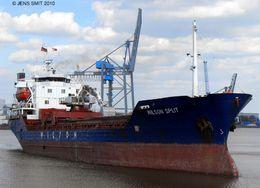Cargoship: (6, 4, 257, 177)
